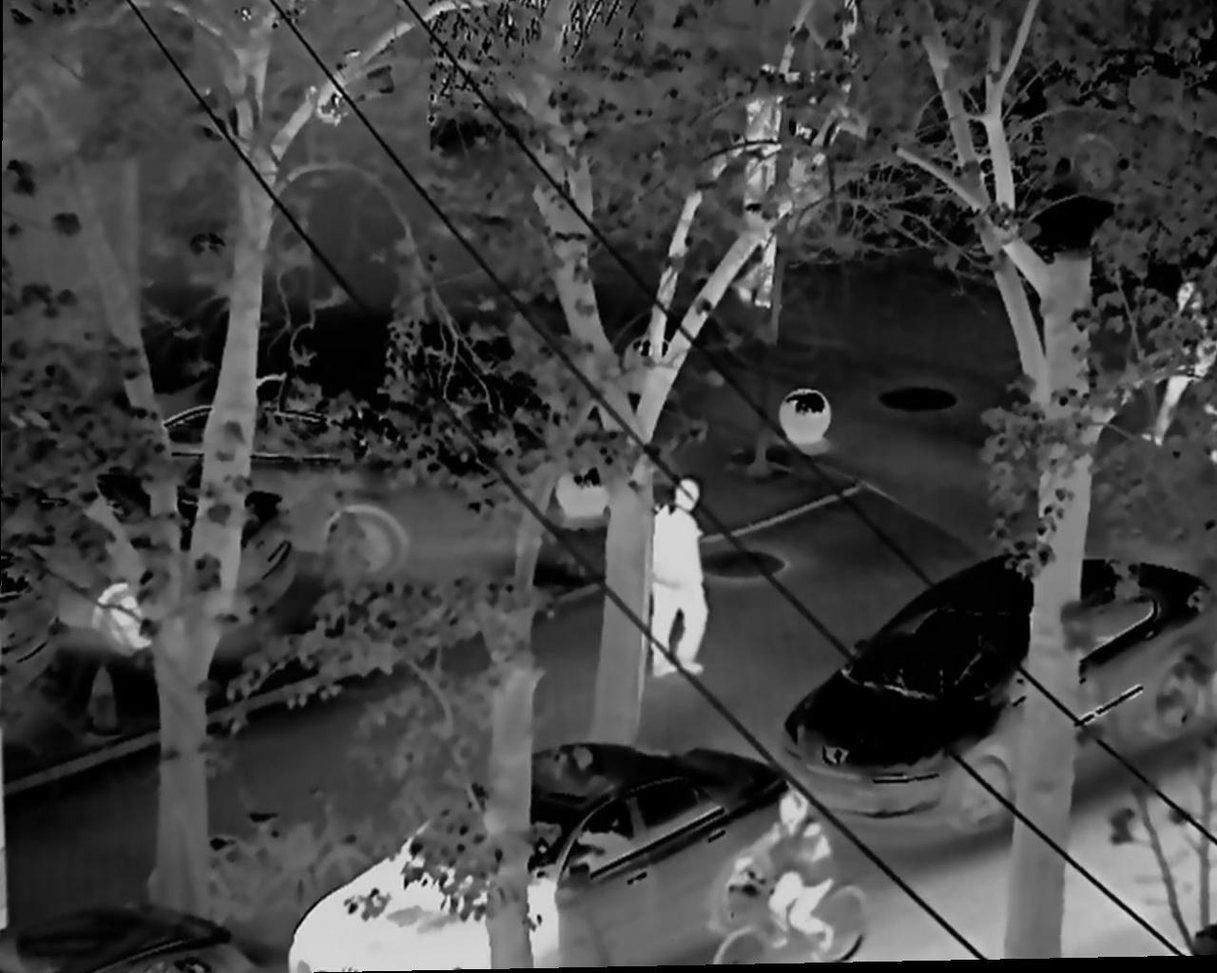person: (736, 791, 834, 956), (648, 479, 707, 679)
